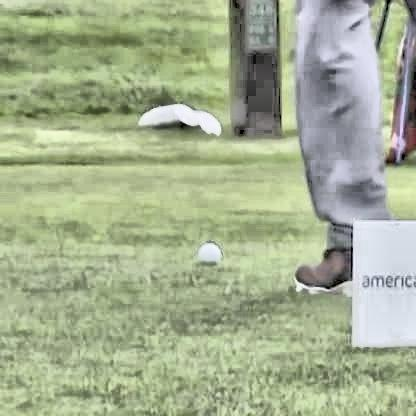golfball: (196, 246, 218, 264)
